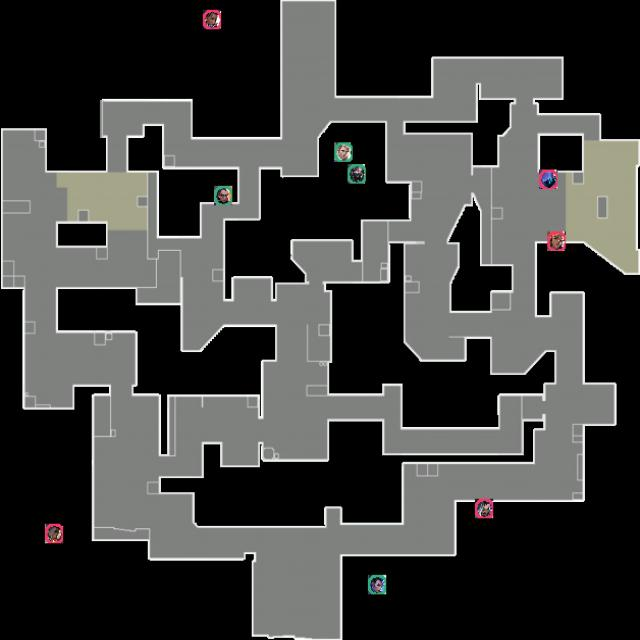atk_astra: (203, 10, 221, 29)
atk_fade: (475, 499, 493, 518)
atk_omen: (539, 170, 558, 189)
atk_phoenix: (45, 524, 63, 543)
atk_raze: (547, 231, 566, 251)
def_reyna: (214, 186, 232, 205)
def_sova: (334, 142, 353, 162)
def_viper: (347, 164, 366, 184)
def_yoru: (368, 575, 386, 594)
